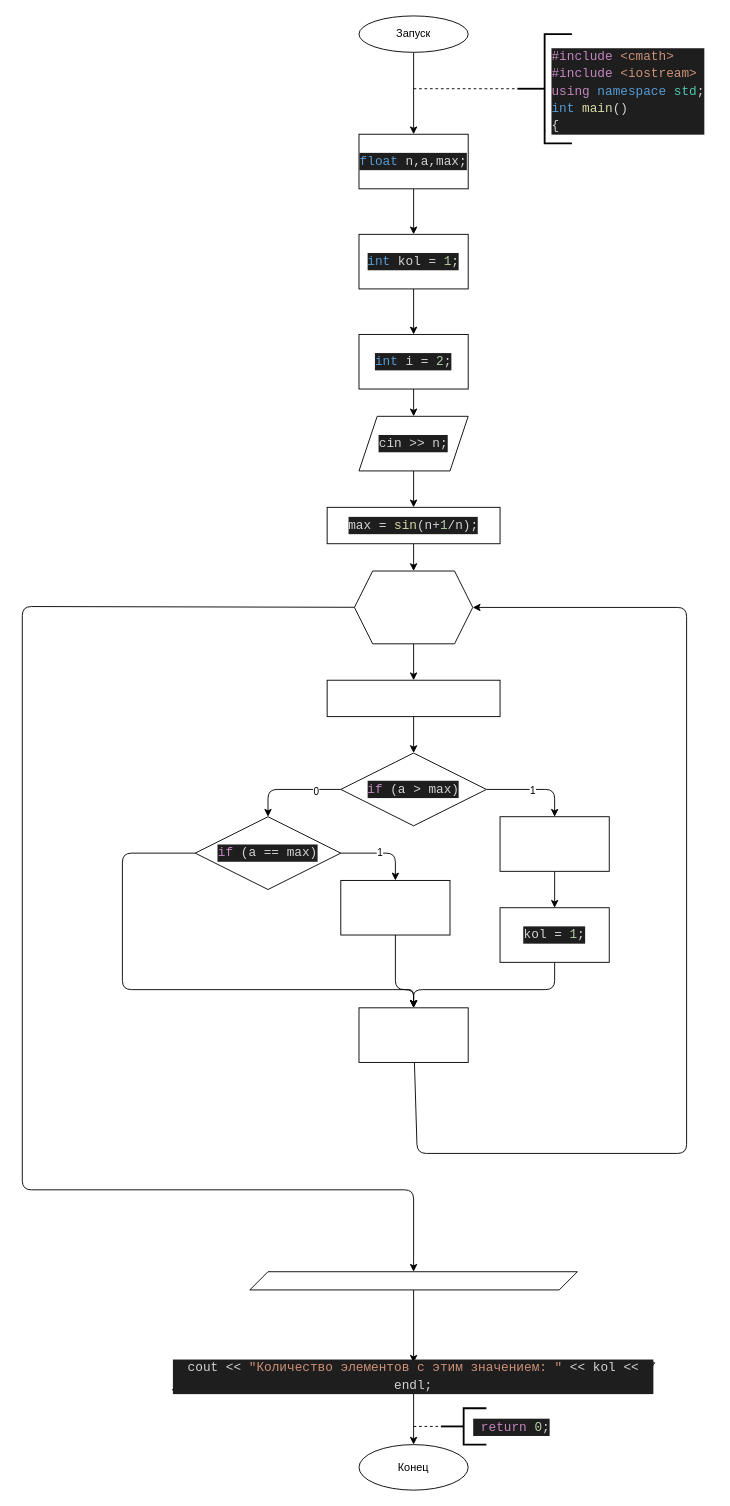
Some shapes in this 730 by 1506 pixel diagram are drawn without their labels. Here are the shapes that lost their labels. From the top down, the centre of each, then its label:
(413,607): while (i <= n)
(413,698): a = sin (n + i/n);
(554,843): max = a;
(395,907): kol++;
(413,1034): i++;
(413,1280): cout << "Максимальный: " << max << endl;
